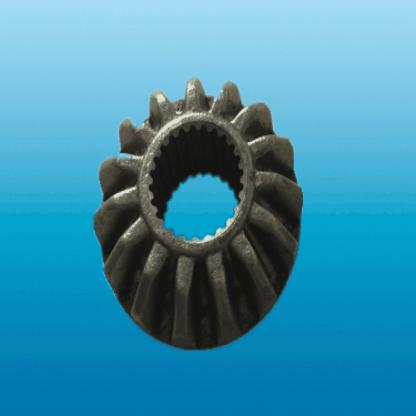FOD: (90, 75, 309, 358)
